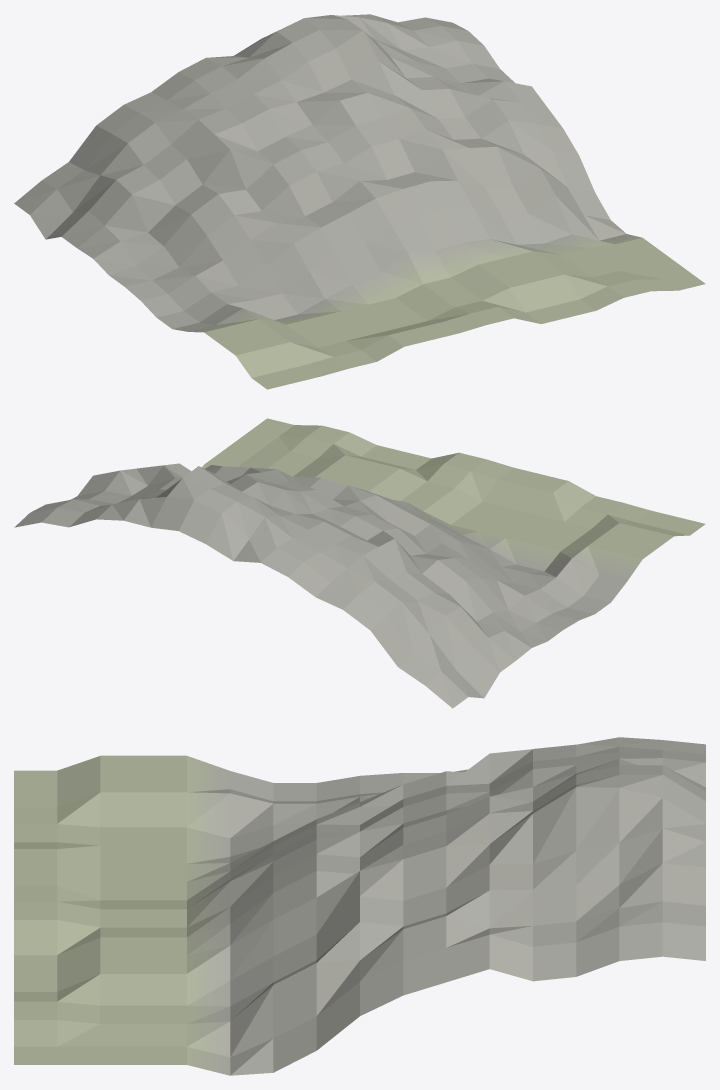
3 views of the same model, one above another, from view 1: azimuth 30°, elevation 25°; view 2: azimuth 150°, elevation 25°; view 3: azimuth 270°, elevation 25° (orthographic). The views are drawn at different scales.
Bounding box in the file's own units: 32 × 10.26 × 32.
